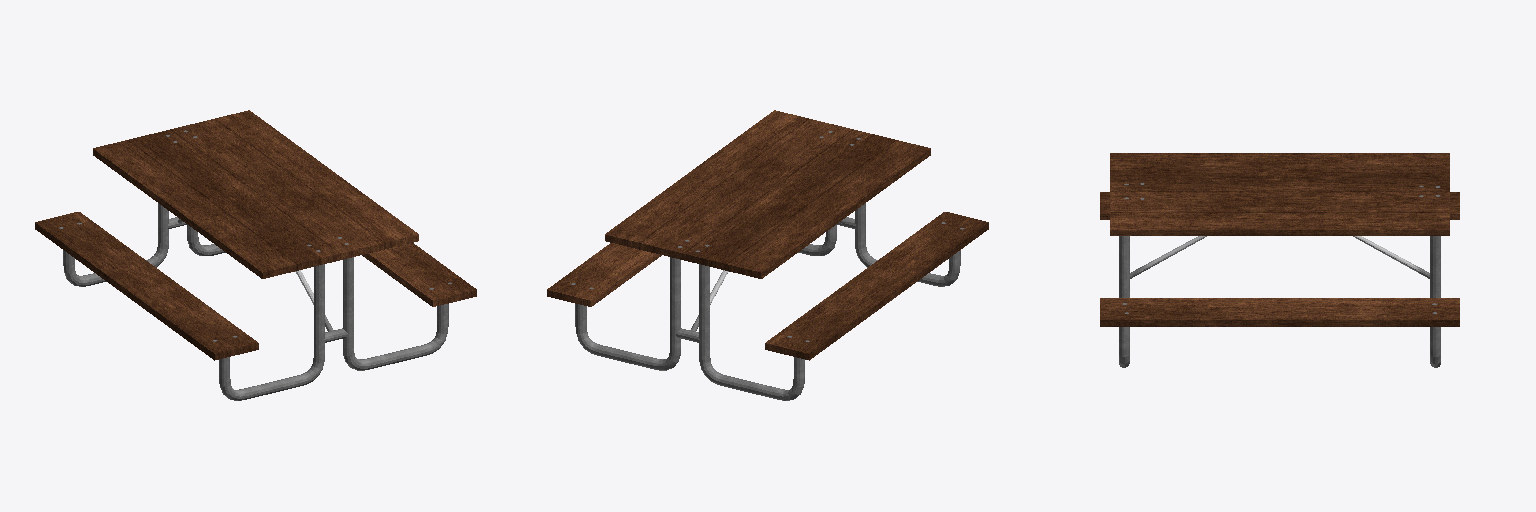
The picture shows the model from 3 angles: view 1: azimuth 30°, elevation 25°; view 2: azimuth 150°, elevation 25°; view 3: azimuth 270°, elevation 25°; orthographic projection.
Visible parts, largest first — view 1: picnic_table; view 2: picnic_table; view 3: picnic_table.
Boxes of the visible parts, x1,y1,x2,y2 form: picnic_table: [35, 110, 476, 400]; picnic_table: [547, 110, 988, 400]; picnic_table: [1100, 153, 1459, 367].
Bounding box in the file's own units: 1.87 × 0.8779 × 2.22.
Materials: 1 (1 with a texture image).